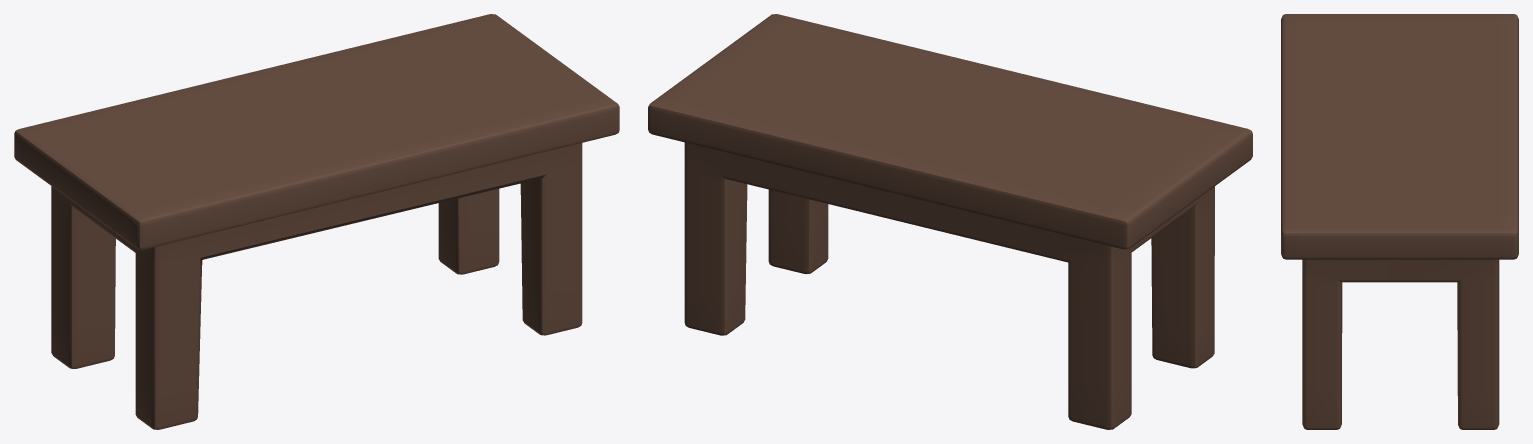
Rendered from table_carré.fbx.
3 renders of one model, left to right at view 1: azimuth 30°, elevation 25°; view 2: azimuth 150°, elevation 25°; view 3: azimuth 270°, elevation 25°, orthographic. The views are drawn at different scales.
Visible parts, largest first — view 1: pCube1; view 2: pCube1; view 3: pCube1.
Boxes of the visible parts, x1,y1,x2,y2 form: pCube1: [14, 14, 619, 429]; pCube1: [648, 14, 1252, 429]; pCube1: [1281, 14, 1518, 429].
Bounding box in the file's own units: 0.0199 × 0.0089 × 0.00906.
